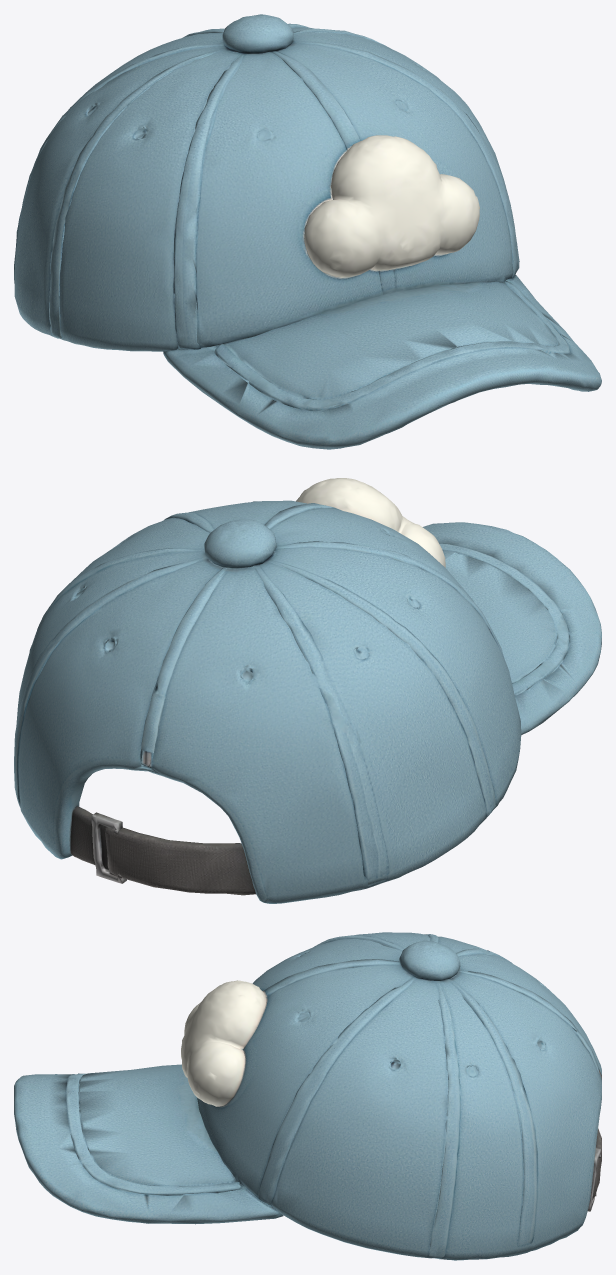
Rendered from mem_ac_bluecloudcap.fbx.
3 views of the same model, one above another, from view 1: azimuth 30°, elevation 25°; view 2: azimuth 150°, elevation 25°; view 3: azimuth 270°, elevation 25° (orthographic). The views are drawn at different scales.
Visible parts, largest first — view 1: tripo_node_7648bc8a; view 2: tripo_node_7648bc8a; view 3: tripo_node_7648bc8a.
Boxes of the visible parts, left/top/right/bottom form: tripo_node_7648bc8a: left=14, top=14, right=601, bottom=449; tripo_node_7648bc8a: left=14, top=478, right=601, bottom=903; tripo_node_7648bc8a: left=14, top=932, right=601, bottom=1260.
Size of the model in its own units: 0.7246 by 0.4629 by 0.998.
